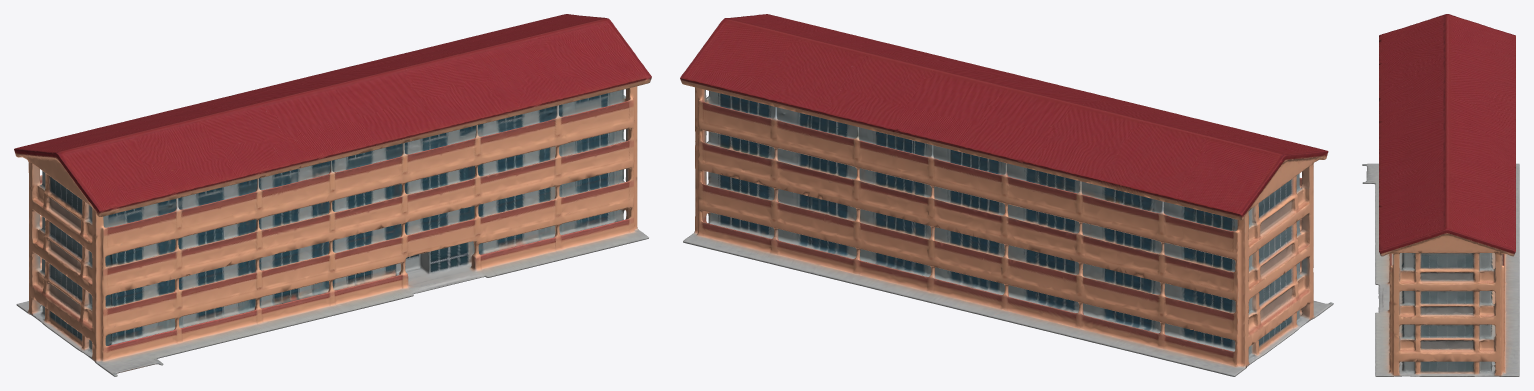
File: bid_3.glb
The picture shows the model from 3 angles, left to right: view 1: azimuth 30°, elevation 25°; view 2: azimuth 150°, elevation 25°; view 3: azimuth 270°, elevation 25°; orthographic projection. The views are drawn at different scales.
Size of the model in its own units: 1.9 by 0.6141 by 0.5844.
Materials: 1 (1 with a texture image).
